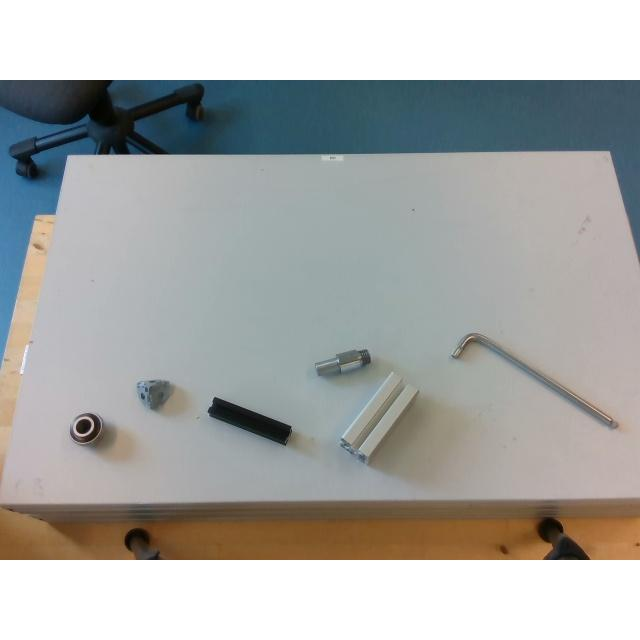Axis2: (449, 330, 619, 428), (314, 349, 370, 375)
Bearing2: (70, 412, 102, 444)
F20_20_B: (208, 396, 292, 444)
S40_40_G: (338, 372, 418, 462)
